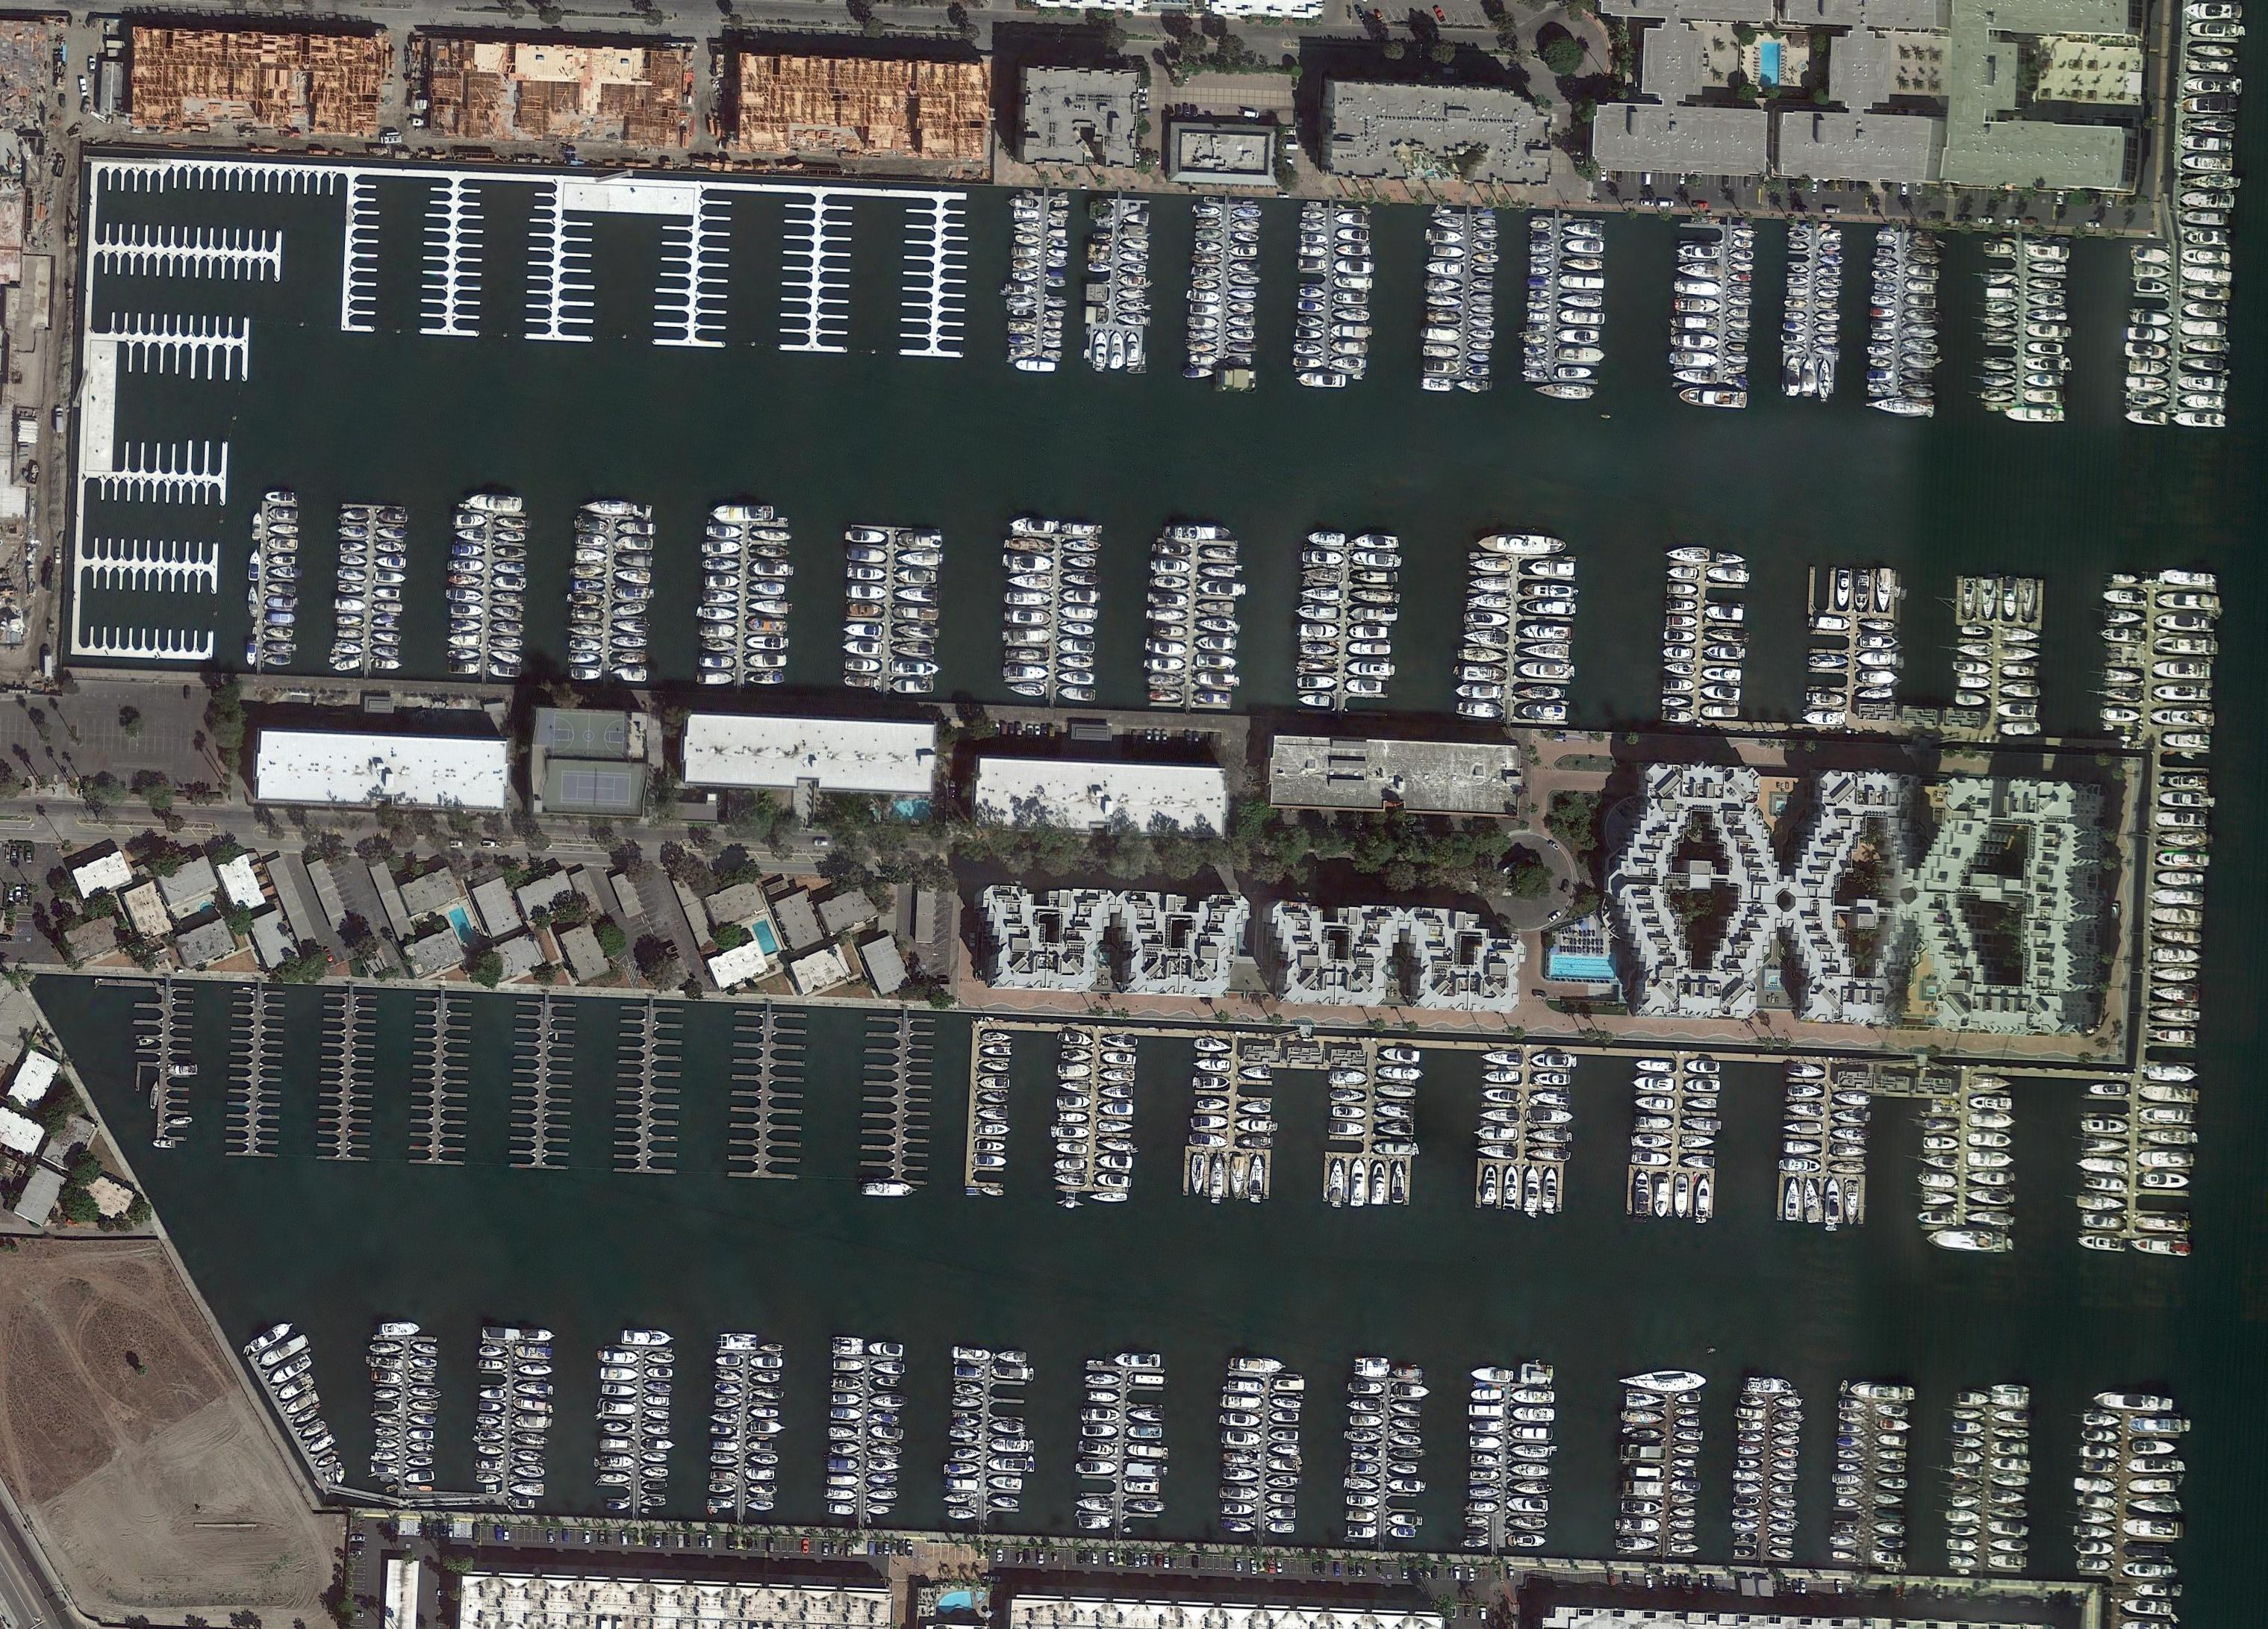harbor: (2135, 745, 2210, 1077), (1460, 552, 1579, 724), (2099, 584, 2216, 745), (2078, 1408, 2180, 1578), (2129, 244, 2231, 415), (2081, 1088, 2194, 1240), (247, 1329, 364, 1475), (1297, 544, 1397, 700), (1003, 530, 1100, 690), (844, 526, 940, 682), (1215, 1370, 1305, 1533), (1617, 1389, 1701, 1559), (1985, 240, 2069, 412), (1777, 1077, 1873, 1226), (1466, 1382, 1554, 1545), (1149, 538, 1239, 694), (1658, 561, 1747, 719), (1948, 1404, 2031, 1573), (1524, 217, 1607, 385), (1183, 1051, 1277, 1200), (1672, 222, 1754, 392), (1476, 1064, 1570, 1212), (1626, 1069, 1719, 1217), (726, 1011, 807, 1180), (1078, 1365, 1167, 1519), (702, 519, 789, 672), (944, 1360, 1028, 1520), (1321, 1066, 1415, 1206), (1806, 566, 1898, 707), (1832, 1395, 1907, 1566), (1295, 206, 1371, 377), (570, 513, 652, 671), (861, 1017, 935, 1187), (825, 1354, 903, 1516), (1920, 1096, 2012, 1233), (595, 1344, 673, 1506), (1345, 1376, 1423, 1535), (612, 1006, 685, 1176), (1868, 229, 1941, 399), (1950, 578, 2044, 710), (1424, 214, 1498, 381), (449, 509, 527, 666), (1054, 1045, 1137, 1193), (708, 1348, 782, 1514), (473, 1338, 551, 1495), (505, 1001, 576, 1171), (776, 204, 856, 353), (1190, 202, 1261, 370), (1080, 200, 1151, 364), (897, 208, 973, 359), (334, 503, 406, 661), (408, 996, 474, 1166), (1732, 1392, 1798, 1561), (123, 988, 196, 1141), (96, 223, 283, 281), (1005, 195, 1070, 363), (1780, 226, 1845, 393), (317, 992, 379, 1162), (652, 217, 732, 348), (223, 989, 286, 1157), (367, 1335, 438, 1482), (420, 188, 486, 337), (524, 218, 600, 343), (105, 158, 338, 196), (128, 314, 250, 382), (113, 437, 230, 506), (82, 538, 220, 594), (965, 1030, 1011, 1189), (255, 501, 299, 661), (341, 179, 383, 334), (80, 626, 215, 661)
ship: (1618, 1368, 1708, 1392), (1477, 535, 1569, 555), (2092, 1390, 2173, 1413), (1926, 1230, 2007, 1253), (258, 1333, 309, 1368), (247, 1318, 296, 1354), (1679, 387, 1748, 409), (1866, 397, 1935, 420), (270, 1354, 313, 1386), (2153, 636, 2220, 655), (2150, 708, 2216, 727), (1850, 1381, 1916, 1400), (2155, 612, 2215, 632), (2156, 593, 2221, 611), (2152, 660, 2211, 680), (278, 1371, 315, 1403), (2139, 1085, 2200, 1103), (465, 493, 523, 512), (2137, 1106, 2197, 1125), (1215, 368, 1258, 394), (1163, 524, 1233, 540), (2122, 1519, 2180, 1538), (712, 504, 774, 521), (1534, 384, 1593, 402), (2131, 1239, 2192, 1256), (2179, 97, 2237, 114), (2151, 907, 2204, 926), (2154, 685, 2211, 702), (284, 1389, 320, 1416), (2184, 4, 2243, 20), (1990, 1383, 2031, 1407), (1228, 1357, 1286, 1374), (2181, 134, 2234, 152), (2148, 1065, 2201, 1083), (2183, 78, 2237, 95), (2185, 173, 2237, 191), (2005, 407, 2063, 423), (2173, 411, 2226, 429), (2163, 570, 2216, 588), (2137, 1151, 2195, 1167), (2158, 851, 2210, 868), (581, 499, 633, 516), (1521, 600, 1576, 617), (2181, 192, 2232, 209), (1518, 662, 1570, 679), (2123, 1542, 2166, 1562), (2134, 1215, 2187, 1232), (2078, 1156, 2128, 1174), (2076, 1195, 2126, 1212), (1669, 351, 1721, 367), (2121, 1599, 2173, 1616), (621, 1330, 676, 1345), (2181, 155, 2233, 171), (2152, 889, 2203, 906), (891, 660, 941, 677), (1299, 371, 1346, 389), (2143, 1172, 2190, 1190), (1457, 702, 1505, 719), (2188, 22, 2241, 37), (2182, 284, 2232, 301), (894, 586, 942, 603), (1621, 1443, 1666, 1461), (1623, 1462, 1663, 1482), (2178, 375, 2225, 392), (2128, 1418, 2184, 1433), (1519, 1362, 1555, 1384), (1557, 346, 1606, 363), (2078, 1236, 2126, 1252), (1743, 1377, 1792, 1394), (2135, 1582, 2184, 1598), (2080, 1137, 2128, 1153), (2182, 267, 2233, 282), (2152, 929, 2202, 944), (2155, 812, 2205, 827), (1010, 517, 1056, 535), (862, 1183, 918, 1197), (2138, 1130, 2193, 1144), (2180, 320, 2227, 336), (892, 605, 941, 620), (1515, 685, 1562, 701), (1522, 625, 1571, 641), (2123, 1563, 2172, 1578), (2124, 343, 2169, 360), (1010, 555, 1055, 572), (1355, 1356, 1389, 1378), (1124, 1460, 1168, 1477), (2182, 249, 2231, 265), (2190, 117, 2236, 134), (1519, 644, 1570, 658), (2101, 627, 2145, 644), (1009, 608, 1051, 626), (2154, 986, 2199, 1003), (2159, 792, 2209, 807), (2184, 302, 2227, 319), (1559, 274, 1606, 290), (2161, 831, 2208, 847), (1353, 552, 1400, 567), (2081, 1119, 2128, 1135), (2102, 588, 2146, 605), (1970, 1074, 2013, 1091), (2155, 948, 2201, 964), (1969, 1113, 2016, 1129), (1676, 261, 1720, 278), (1677, 280, 1722, 296), (1008, 628, 1052, 644), (1522, 704, 1566, 720), (2072, 1477, 2116, 1494), (1623, 1480, 1665, 1498), (897, 532, 943, 548), (1456, 684, 1501, 700), (1969, 1152, 2014, 1168), (2163, 733, 2211, 748), (1114, 1353, 1162, 1368), (1009, 573, 1052, 590), (1209, 1154, 1226, 1197), (1969, 1132, 2012, 1148), (1653, 1176, 1669, 1219), (895, 623, 940, 639), (1876, 568, 1892, 613), (2127, 1459, 2179, 1472), (1700, 685, 1740, 702), (1560, 310, 1606, 325), (2152, 967, 2196, 982), (1676, 316, 1720, 331), (1707, 567, 1751, 582), (1966, 1189, 2010, 1205), (1804, 1179, 1820, 1223), (1350, 608, 1399, 622), (846, 547, 888, 564), (1329, 1159, 1345, 1201), (2084, 1176, 2126, 1192), (1633, 1075, 1674, 1091), (1524, 584, 1574, 597), (2025, 244, 2070, 259), (1353, 534, 1399, 549), (1530, 561, 1575, 576), (2128, 327, 2171, 343), (1675, 334, 1719, 349), (1674, 369, 1717, 384), (1005, 591, 1053, 605), (1302, 549, 1343, 566), (1200, 580, 1242, 597), (1524, 1166, 1539, 1211), (2183, 211, 2225, 226), (2125, 410, 2168, 426), (2157, 871, 2204, 885), (891, 642, 934, 658), (1464, 666, 1507, 682), (1348, 661, 1391, 677), (1513, 1389, 1556, 1404), (1512, 1425, 1554, 1441), (1350, 1160, 1365, 1207), (1532, 1109, 1574, 1125), (1633, 1173, 1649, 1215), (379, 1321, 422, 1337), (2101, 707, 2141, 723), (1471, 1367, 1511, 1383), (366, 1460, 399, 1480), (2127, 1479, 2176, 1492), (2027, 323, 2071, 338), (1677, 244, 1722, 259), (1009, 538, 1053, 552), (1802, 711, 1846, 726), (1249, 1156, 1264, 1200), (1230, 1155, 1245, 1199), (2187, 59, 2233, 73), (1557, 328, 1599, 344), (897, 551, 939, 567), (1469, 593, 1511, 608), (1297, 604, 1337, 620), (1677, 298, 1720, 313), (1464, 648, 1507, 663), (1966, 1211, 2010, 1226), (1504, 1166, 1518, 1209), (2130, 1498, 2175, 1513), (2131, 1440, 2177, 1454), (1825, 1179, 1839, 1224), (847, 585, 888, 600), (1962, 578, 1978, 619), (1997, 703, 2038, 718), (1300, 567, 1342, 582), (1297, 675, 1339, 691), (1222, 1394, 1263, 1410), (717, 1333, 758, 1348), (1481, 1050, 1522, 1066), (2152, 1007, 2197, 1021), (2126, 376, 2169, 391), (1998, 683, 2041, 698), (1465, 612, 1510, 626), (1092, 331, 1108, 371), (842, 640, 882, 655), (1705, 645, 1745, 661), (2082, 1215, 2122, 1230), (1532, 1053, 1572, 1068), (987, 1457, 1027, 1472), (952, 1347, 992, 1362), (1308, 530, 1346, 546), (2180, 357, 2224, 371), (1527, 1147, 1571, 1162), (1194, 672, 1236, 687), (1620, 1519, 1662, 1533), (1507, 1498, 1548, 1513), (1477, 1126, 1518, 1141), (1809, 653, 1848, 669), (1009, 665, 1048, 681), (1381, 1047, 1421, 1063), (1634, 1133, 1674, 1149), (300, 1419, 328, 1442), (2022, 579, 2037, 622), (1667, 547, 1710, 561), (1512, 1407, 1556, 1421), (1845, 1182, 1859, 1225), (1560, 293, 1601, 308), (847, 567, 888, 582), (1465, 629, 1506, 644), (1622, 1500, 1663, 1515), (2075, 1541, 2116, 1556), (1476, 1144, 1517, 1159), (1542, 1168, 1557, 1209), (832, 1337, 865, 1356), (1674, 1174, 1688, 1220), (2001, 647, 2040, 662), (1529, 1127, 1568, 1143), (1967, 1171, 2010, 1185), (1969, 1096, 2012, 1110), (2182, 394, 2222, 409), (2131, 248, 2171, 263), (1197, 655, 1237, 670), (1619, 1537, 1659, 1552), (1781, 1158, 1821, 1173), (308, 1433, 336, 1455), (1331, 323, 1369, 339), (2155, 1029, 2196, 1043), (2024, 357, 2066, 371), (892, 679, 934, 694), (1856, 570, 1870, 611), (1708, 629, 1750, 643), (1470, 558, 1512, 572), (1378, 1066, 1420, 1080), (2187, 231, 2227, 246), (2129, 361, 2169, 376), (1981, 580, 1996, 620), (1860, 635, 1899, 650), (2103, 688, 2143, 703), (1626, 1393, 1666, 1408), (1375, 1103, 1415, 1118), (1695, 1178, 1710, 1218), (990, 1438, 1029, 1453), (1424, 358, 1460, 375), (1424, 326, 1461, 342), (611, 667, 648, 682), (847, 602, 885, 618), (614, 568, 652, 584), (1706, 605, 1743, 621), (2107, 609, 2145, 625), (1224, 1430, 1261, 1446), (1563, 222, 1604, 237), (1988, 1521, 2029, 1535), (2133, 264, 2172, 279), (1702, 667, 1741, 682), (1147, 673, 1186, 688), (1636, 1059, 1674, 1074), (2188, 45, 2234, 57), (1011, 682, 1046, 698), (843, 623, 883, 637), (897, 570, 938, 584), (1297, 658, 1338, 673), (1191, 1155, 1205, 1195), (1328, 1071, 1368, 1085), (1377, 1084, 1417, 1098), (1479, 1109, 1519, 1123), (1786, 1178, 1799, 1221), (702, 557, 740, 572), (1813, 616, 1851, 631), (1236, 1118, 1274, 1133), (1194, 1038, 1232, 1053), (1833, 1091, 1871, 1106), (1482, 1167, 1497, 1205), (1636, 1096, 1674, 1111), (1632, 1151, 1670, 1166), (1015, 359, 1056, 373), (1469, 576, 1511, 590), (1349, 642, 1391, 655), (1627, 1427, 1663, 1442), (1371, 1162, 1385, 1204), (1563, 258, 1603, 272), (1786, 357, 1800, 396), (845, 530, 885, 544), (1510, 1444, 1549, 1458), (1992, 1457, 2031, 1471), (2081, 1413, 2121, 1427), (600, 1367, 640, 1381), (1330, 356, 1367, 371), (1150, 608, 1187, 623), (1329, 1121, 1366, 1136), (2024, 389, 2065, 402), (748, 600, 789, 614), (1392, 1162, 1406, 1203), (1566, 240, 1604, 254), (1109, 331, 1124, 370), (2187, 338, 2225, 352), (2027, 292, 2066, 306), (749, 654, 788, 668), (752, 562, 791, 576), (1300, 587, 1339, 601), (1625, 1410, 1664, 1424), (1512, 1480, 1551, 1495), (1508, 1534, 1547, 1548), (1916, 1211, 1955, 1225), (846, 658, 881, 673), (1425, 278, 1462, 293), (1336, 259, 1372, 274), (612, 618, 649, 633), (617, 536, 654, 551), (2003, 580, 2018, 617), (2003, 629, 2040, 644), (1059, 670, 1095, 685), (1199, 617, 1236, 632), (1223, 1467, 1259, 1482), (1075, 1497, 1112, 1512), (1081, 1460, 1118, 1475), (1191, 1133, 1228, 1148), (1921, 1174, 1957, 1189), (1353, 572, 1398, 584), (2001, 722, 2041, 735), (1006, 648, 1046, 661), (1990, 1539, 2030, 1552), (700, 623, 738, 638), (1101, 1034, 1139, 1048), (1787, 1064, 1825, 1078), (1635, 1116, 1673, 1130), (1127, 1444, 1165, 1458), (1426, 261, 1462, 276), (1990, 1489, 2025, 1504), (1833, 1144, 1869, 1159), (869, 1393, 905, 1408), (1334, 276, 1374, 290), (749, 618, 788, 632), (1300, 624, 1340, 638), (1988, 1555, 2028, 1569), (1682, 1117, 1722, 1130), (2136, 313, 2173, 327), (1061, 523, 1098, 537), (1196, 636, 1233, 650), (1829, 1161, 1866, 1175), (1784, 1121, 1822, 1135), (1062, 687, 1095, 703), (1350, 591, 1395, 602), (1152, 641, 1187, 656), (600, 1436, 635, 1451), (1194, 691, 1233, 705), (1196, 600, 1235, 614), (1350, 626, 1389, 639), (1220, 1487, 1259, 1501), (1508, 1516, 1547, 1530), (2076, 1525, 2115, 1539), (702, 607, 738, 621), (702, 590, 739, 604), (618, 522, 655, 536), (1860, 670, 1896, 685), (1191, 1115, 1228, 1129), (1831, 1127, 1868, 1141), (1923, 1118, 1960, 1132), (867, 1342, 904, 1357), (1155, 592, 1189, 607), (1533, 1090, 1568, 1105), (1129, 1407, 1163, 1422), (1333, 308, 1371, 322), (614, 587, 654, 599), (1300, 643, 1339, 656), (1223, 1413, 1261, 1427), (1511, 1463, 1549, 1477), (1990, 1442, 2028, 1455), (1483, 1089, 1521, 1103), (991, 1366, 1029, 1380), (1347, 679, 1383, 694), (1395, 1385, 1430, 1399), (2084, 1445, 2119, 1460), (512, 1397, 548, 1411), (1802, 358, 1815, 397), (753, 529, 792, 541), (1062, 540, 1102, 552), (1990, 1507, 2029, 1519), (1372, 1142, 1412, 1155), (1423, 344, 1460, 358), (1332, 340, 1369, 354), (1701, 705, 1739, 718), (1194, 1059, 1231, 1072), (1783, 1141, 1821, 1155), (515, 1346, 552, 1359), (2105, 670, 2140, 684), (2081, 1495, 2116, 1509), (976, 1123, 1012, 1137), (1685, 1059, 1720, 1074), (1127, 1425, 1162, 1439), (600, 1455, 635, 1469), (2028, 309, 2066, 322), (293, 1408, 319, 1427), (1426, 294, 1462, 308), (844, 676, 880, 689), (2083, 1461, 2119, 1474), (1685, 1079, 1722, 1092), (702, 655, 736, 669), (1062, 590, 1096, 604), (449, 588, 483, 602), (1860, 618, 1895, 632), (1813, 693, 1847, 707), (1958, 643, 1993, 657), (1221, 1520, 1255, 1534), (2081, 1510, 2116, 1524), (1099, 1155, 1133, 1169), (1058, 1064, 1092, 1078), (1924, 1136, 1958, 1150), (1535, 1071, 1569, 1086), (1083, 1424, 1118, 1438), (1086, 1408, 1121, 1422), (747, 637, 785, 650), (1837, 570, 1850, 608), (2028, 342, 2063, 355), (2024, 374, 2064, 386), (2132, 393, 2168, 406), (750, 582, 785, 596), (707, 541, 743, 555), (705, 575, 741, 588), (617, 554, 652, 567), (1059, 639, 1094, 652), (1857, 687, 1893, 700), (1156, 560, 1191, 573), (1100, 1068, 1135, 1082), (1099, 1120, 1135, 1133), (1831, 1109, 1867, 1123), (867, 1458, 903, 1471), (1427, 311, 1461, 325), (613, 602, 647, 617), (489, 664, 523, 679), (1859, 652, 1892, 667), (1155, 576, 1188, 590), (1786, 1103, 1819, 1117), (602, 1402, 636, 1416), (611, 635, 648, 648), (1819, 359, 1831, 399), (752, 546, 791, 558), (702, 639, 737, 652), (699, 672, 734, 685), (2001, 664, 2036, 678), (1151, 658, 1186, 671), (1470, 1420, 1505, 1433), (1330, 1089, 1365, 1103), (1925, 1155, 1960, 1168), (871, 1361, 906, 1374), (517, 1363, 552, 1377), (334, 597, 366, 612), (1430, 230, 1463, 244), (1241, 1065, 1274, 1080), (1059, 1095, 1091, 1109), (567, 623, 603, 636), (1955, 662, 1992, 675), (1129, 1501, 1165, 1513), (1993, 1410, 2030, 1422), (1377, 1123, 1414, 1136), (1992, 1474, 2031, 1486), (2136, 281, 2170, 294), (1063, 573, 1097, 586), (1945, 1510, 1979, 1523), (2082, 1430, 2116, 1443), (1789, 1085, 1823, 1098), (870, 1425, 905, 1439), (988, 1476, 1022, 1489), (511, 1483, 545, 1496), (1471, 1403, 1502, 1418), (490, 650, 523, 664), (1079, 1516, 1111, 1530), (749, 673, 785, 685), (1059, 623, 1094, 635), (602, 1384, 638, 1397), (1333, 291, 1367, 305), (270, 566, 303, 579), (1663, 630, 1697, 644), (1952, 1421, 1986, 1434), (1421, 377, 1451, 392), (706, 526, 744, 538), (1059, 655, 1094, 668), (1350, 1382, 1385, 1395), (2076, 1559, 2111, 1572), (1086, 1374, 1121, 1386), (989, 1420, 1024, 1433), (520, 1329, 555, 1342), (604, 1351, 639, 1364), (1338, 228, 1369, 242), (576, 533, 608, 547), (1271, 1376, 1303, 1390), (569, 638, 602, 651), (1061, 606, 1094, 620), (452, 603, 485, 617), (1347, 1495, 1380, 1508), (1949, 1480, 1982, 1494), (1946, 1539, 1979, 1552), (1100, 1086, 1133, 1099), (514, 1415, 547, 1428), (1901, 386, 1936, 399), (1201, 565, 1236, 578), (1223, 1452, 1257, 1465), (1348, 1430, 1383, 1443), (1333, 1106, 1367, 1119), (1056, 1127, 1090, 1139), (751, 1422, 785, 1435), (2169, 776, 2208, 787), (1909, 250, 1940, 264), (372, 1371, 402, 1385), (1906, 264, 1938, 278), (449, 573, 481, 587), (1959, 676, 1991, 690), (1666, 567, 1698, 580), (1958, 1392, 1990, 1406), (1267, 1459, 1299, 1472), (1471, 1436, 1503, 1449), (1345, 1510, 1377, 1523), (1389, 1479, 1421, 1492), (1925, 1192, 1957, 1206), (1228, 1380, 1264, 1392), (1124, 1481, 1160, 1493), (2090, 1084, 2125, 1096), (2028, 262, 2066, 273), (1734, 1407, 1768, 1420), (1197, 1077, 1230, 1089), (1089, 1192, 1127, 1203), (824, 1488, 858, 1501), (573, 608, 603, 622), (1348, 1525, 1377, 1539), (1189, 302, 1221, 316), (1984, 242, 2015, 255), (376, 570, 407, 584), (376, 555, 408, 569), (451, 618, 482, 632), (1469, 1468, 1501, 1481), (1084, 1442, 1115, 1456), (1981, 390, 2016, 402), (2027, 278, 2062, 290), (1348, 1399, 1383, 1411), (1484, 1071, 1519, 1083), (1154, 626, 1187, 638), (1157, 543, 1190, 556), (1880, 1419, 1913, 1432), (1239, 1136, 1272, 1148), (1061, 1033, 1094, 1046), (1682, 1136, 1715, 1148), (1191, 290, 1220, 304), (334, 641, 364, 655), (333, 658, 361, 673), (576, 549, 607, 562), (455, 543, 485, 557), (1955, 693, 1986, 706), (1954, 1436, 1984, 1449), (1241, 1100, 1271, 1114), (1062, 1049, 1093, 1062), (1683, 1155, 1714, 1168), (514, 1466, 545, 1479), (447, 649, 482, 661), (490, 591, 524, 603), (1949, 1466, 1984, 1477), (1433, 246, 1465, 258), (455, 514, 487, 527), (453, 559, 485, 572), (493, 621, 525, 634), (337, 525, 370, 538), (1197, 1098, 1230, 1111), (975, 1155, 1007, 1168), (1088, 1391, 1121, 1404), (948, 1463, 980, 1475), (831, 1408, 863, 1421), (1336, 213, 1370, 225), (1336, 245, 1369, 257), (579, 520, 608, 533), (493, 576, 527, 588), (1664, 647, 1694, 660), (1203, 547, 1237, 559), (1221, 1504, 1255, 1516), (1954, 1451, 1984, 1464), (370, 1342, 403, 1354), (750, 1357, 783, 1368), (1457, 379, 1489, 392), (574, 594, 605, 606), (268, 538, 299, 550), (448, 662, 479, 675), (1662, 711, 1693, 723), (1663, 679, 1695, 691), (1103, 1052, 1134, 1065), (977, 1107, 1009, 1120), (1097, 1174, 1129, 1187), (1099, 1138, 1130, 1150), (1558, 367, 1593, 379), (1994, 1427, 2029, 1439), (1985, 302, 2018, 314), (1902, 354, 1935, 366), (448, 634, 481, 646), (1265, 1476, 1298, 1488), (517, 1433, 549, 1445), (1350, 1478, 1379, 1492), (710, 1411, 739, 1424), (1129, 1373, 1166, 1383), (1292, 357, 1323, 370), (1188, 316, 1218, 328), (1906, 280, 1937, 293), (1664, 662, 1695, 675), (827, 1458, 858, 1471), (831, 1442, 862, 1455), (640, 1466, 670, 1479), (1127, 333, 1138, 367), (493, 547, 527, 558), (515, 1383, 549, 1394), (1230, 273, 1262, 285), (1985, 316, 2017, 328), (1984, 375, 2016, 387), (1902, 339, 1934, 351), (490, 607, 523, 619), (1874, 1522, 1906, 1534), (1471, 1389, 1503, 1401), (982, 1032, 1014, 1044), (1056, 1142, 1088, 1154), (827, 1474, 859, 1486), (269, 508, 299, 520), (337, 569, 367, 582), (1733, 1469, 1763, 1482), (832, 1377, 862, 1390), (248, 585, 259, 618), (1875, 1405, 1909, 1416), (1006, 295, 1038, 307), (494, 517, 526, 529), (1670, 1480, 1701, 1492), (1470, 1486, 1501, 1498), (509, 1497, 537, 1510), (1294, 343, 1323, 355), (576, 579, 605, 592), (572, 668, 601, 681), (1878, 1433, 1907, 1446), (1392, 1417, 1421, 1430), (955, 1366, 984, 1379), (1350, 1415, 1383, 1427), (1101, 1104, 1134, 1115), (752, 1388, 785, 1399), (1011, 246, 1041, 258), (576, 564, 606, 576), (249, 550, 261, 581), (266, 582, 296, 594), (455, 529, 486, 541), (491, 636, 522, 648), (1716, 552, 1747, 564), (1300, 694, 1330, 706), (1877, 1537, 1907, 1549), (1468, 1501, 1499, 1513), (979, 1077, 1010, 1088), (1055, 1174, 1085, 1186), (834, 1359, 864, 1371), (618, 652, 647, 664), (267, 611, 296, 624), (1350, 1463, 1379, 1475), (747, 1468, 775, 1480), (948, 1509, 976, 1521), (479, 1345, 507, 1358), (1985, 331, 2017, 343), (493, 531, 526, 542), (1270, 1398, 1302, 1409), (1390, 1434, 1422, 1445), (1953, 1409, 1985, 1420), (167, 1063, 199, 1074), (1297, 259, 1327, 271), (376, 527, 406, 539), (1872, 1551, 1902, 1563), (953, 1397, 982, 1409), (516, 1451, 546, 1463), (646, 1352, 676, 1364), (373, 602, 404, 613), (493, 562, 525, 573), (1150, 691, 1182, 702), (1876, 1478, 1910, 1489), (1390, 1403, 1421, 1414), (1058, 1112, 1089, 1124), (867, 1489, 898, 1501), (600, 1472, 632, 1483), (1871, 256, 1898, 269), (375, 541, 402, 553), (148, 1083, 161, 1110), (714, 1383, 741, 1395), (1009, 282, 1038, 294), (1191, 354, 1220, 366), (1228, 315, 1257, 327), (1228, 288, 1257, 300), (1067, 556, 1096, 568), (379, 511, 408, 523), (266, 490, 295, 502), (1668, 584, 1697, 596), (1733, 1482, 1762, 1494), (1267, 1508, 1296, 1520), (1952, 1495, 1981, 1507), (953, 1448, 982, 1460), (942, 1492, 971, 1504), (998, 1351, 1027, 1362), (1982, 361, 2015, 371), (1191, 253, 1222, 264), (1905, 294, 1936, 305), (372, 632, 402, 643), (1666, 616, 1697, 627), (1054, 1159, 1085, 1170), (1686, 1097, 1717, 1109), (337, 628, 364, 641), (340, 553, 367, 566), (1299, 246, 1327, 258), (375, 659, 403, 671), (1875, 1493, 1903, 1505), (1949, 1556, 1978, 1568), (710, 1454, 738, 1466), (832, 1394, 861, 1406), (476, 1460, 504, 1471), (1900, 370, 1932, 380), (1116, 314, 1146, 325), (1185, 368, 1215, 379), (270, 523, 299, 535), (265, 626, 295, 638), (1269, 1412, 1299, 1423), (1950, 1526, 1980, 1537), (867, 1474, 897, 1485), (646, 1439, 676, 1451), (1990, 273, 2018, 285), (372, 646, 399, 658), (267, 596, 295, 608), (264, 655, 292, 667), (1471, 1454, 1498, 1466), (977, 1141, 1005, 1153), (409, 1413, 437, 1425), (647, 1367, 674, 1379), (1186, 341, 1218, 352), (1120, 251, 1149, 262), (1905, 308, 1934, 320), (252, 512, 263, 541), (1394, 1367, 1423, 1378), (869, 1445, 903, 1455), (948, 1429, 977, 1440), (409, 1400, 438, 1411), (644, 1382, 673, 1393), (1298, 316, 1324, 328), (1872, 270, 1898, 281), (1829, 1535, 1856, 1547), (1732, 1507, 1759, 1519), (715, 1369, 742, 1381), (713, 1441, 740, 1453), (1232, 208, 1262, 218), (1188, 329, 1219, 340), (1393, 1448, 1424, 1459), (1670, 1544, 1701, 1554), (982, 1045, 1013, 1056), (870, 1412, 900, 1423), (1297, 302, 1326, 313), (1121, 238, 1150, 249), (1195, 228, 1224, 240), (1390, 1514, 1418, 1525), (1389, 1463, 1418, 1474), (747, 1501, 775, 1512), (750, 1454, 779, 1465), (407, 1471, 435, 1483), (1300, 287, 1326, 299), (1015, 233, 1041, 245), (373, 1357, 403, 1367), (956, 1383, 982, 1395), (1435, 217, 1462, 228), (1472, 252, 1500, 264), (1295, 328, 1323, 340), (1227, 329, 1254, 340), (1839, 1411, 1866, 1422), (1731, 1520, 1759, 1531), (1271, 1443, 1298, 1454), (1268, 1492, 1296, 1504), (1062, 1081, 1089, 1092), (829, 1427, 856, 1438), (991, 1497, 1019, 1508), (753, 1373, 780, 1384), (478, 1445, 505, 1457), (1008, 334, 1037, 345), (1013, 270, 1038, 282), (714, 1397, 740, 1409), (1195, 267, 1222, 278), (338, 583, 365, 594), (340, 541, 367, 552), (1015, 222, 1041, 233), (1839, 1399, 1866, 1410), (711, 1471, 738, 1482), (708, 1498, 735, 1510), (373, 1389, 400, 1400), (643, 1395, 670, 1407), (476, 1474, 502, 1485), (1228, 343, 1259, 352), (1831, 1474, 1862, 1484), (1877, 1451, 1907, 1460), (1768, 1521, 1796, 1532), (1271, 1430, 1299, 1441), (1010, 321, 1036, 332), (1233, 231, 1259, 242), (1197, 241, 1223, 252), (1228, 302, 1254, 314), (1870, 307, 1896, 318), (1871, 295, 1897, 306), (572, 653, 598, 664), (1836, 1436, 1863, 1448), (1672, 1493, 1698, 1504), (982, 1092, 1009, 1103), (829, 1504, 855, 1516), (411, 1357, 437, 1368), (1118, 288, 1145, 299), (1119, 264, 1147, 274), (1230, 246, 1257, 257), (1014, 209, 1041, 219), (1769, 1509, 1796, 1519), (1737, 1421, 1765, 1431), (408, 1442, 435, 1453), (642, 1424, 670, 1435), (317, 1454, 337, 1468), (372, 614, 396, 626), (1013, 258, 1038, 270), (1192, 279, 1218, 290), (1868, 345, 1893, 356), (337, 615, 363, 626), (1671, 600, 1696, 611), (1009, 198, 1035, 209), (1738, 1445, 1763, 1456), (1269, 1523, 1295, 1534), (603, 1422, 629, 1433), (246, 641, 258, 667), (748, 1484, 777, 1494), (1469, 328, 1496, 339), (1118, 301, 1145, 311), (342, 509, 369, 520), (267, 642, 293, 652), (1663, 697, 1689, 707), (1775, 1410, 1801, 1420), (1463, 1538, 1490, 1548), (478, 1360, 505, 1371), (408, 1430, 435, 1440), (170, 1115, 193, 1127), (1527, 276, 1552, 287), (1876, 1463, 1904, 1473), (750, 1408, 779, 1418), (1302, 234, 1328, 244), (1299, 221, 1325, 231), (2113, 574, 2139, 585), (1772, 1471, 1798, 1482), (1733, 1495, 1760, 1506), (1671, 1531, 1697, 1542), (983, 1061, 1009, 1071), (641, 1452, 667, 1463), (1119, 275, 1147, 285), (1233, 219, 1260, 229), (1773, 1435, 1801, 1445), (1524, 334, 1548, 345), (154, 1137, 176, 1149), (1473, 240, 1498, 251), (1196, 205, 1221, 216), (1868, 370, 1893, 381), (1871, 320, 1896, 331), (1770, 1548, 1795, 1559), (1839, 1423, 1864, 1433), (1391, 1527, 1416, 1537), (715, 1355, 741, 1365), (375, 1414, 400, 1424), (641, 1497, 667, 1507), (644, 1410, 670, 1420), (1775, 1398, 1802, 1407), (1773, 1421, 1800, 1431), (1772, 1448, 1799, 1457), (406, 1457, 433, 1466), (1783, 322, 1807, 332), (414, 1344, 438, 1354), (374, 588, 400, 598), (1740, 1396, 1766, 1406), (709, 1483, 735, 1493), (410, 1387, 436, 1397), (1469, 340, 1493, 351), (1523, 346, 1547, 356), (1521, 369, 1545, 379), (1125, 214, 1149, 224), (376, 1427, 399, 1437), (1674, 1445, 1701, 1454), (1470, 305, 1495, 314), (1227, 357, 1252, 367), (1728, 296, 1753, 306), (1772, 1460, 1798, 1469), (411, 1371, 436, 1380), (479, 1432, 504, 1442), (1875, 282, 1896, 293), (1527, 300, 1550, 311), (1089, 263, 1112, 273), (1839, 1449, 1862, 1460), (1814, 346, 1841, 355), (1730, 250, 1754, 260), (1010, 347, 1035, 357), (1819, 255, 1843, 264), (1867, 384, 1892, 393), (1961, 626, 1986, 636), (1676, 1394, 1701, 1404), (1675, 1431, 1700, 1441), (1739, 1433, 1764, 1443), (479, 1390, 504, 1400), (643, 1481, 667, 1491), (1477, 228, 1499, 239), (1525, 358, 1548, 368), (1772, 1497, 1798, 1506), (1230, 261, 1254, 271), (1725, 354, 1748, 364), (1784, 299, 1808, 308), (955, 1418, 979, 1427), (376, 1439, 399, 1449), (270, 555, 296, 564), (1669, 1519, 1695, 1527), (1739, 1459, 1760, 1469), (1469, 317, 1492, 327), (1471, 279, 1494, 289), (1783, 333, 1807, 343), (1783, 311, 1807, 320), (375, 1451, 398, 1461), (1301, 211, 1326, 219), (1818, 278, 1842, 287), (748, 1442, 773, 1451), (1783, 344, 1805, 354), (1872, 332, 1895, 342), (1673, 1507, 1695, 1517), (867, 1505, 890, 1515), (711, 1426, 734, 1436), (374, 1402, 396, 1412), (1728, 285, 1752, 294), (1730, 263, 1754, 272), (1530, 243, 1554, 252), (1817, 312, 1841, 321), (1676, 1407, 1700, 1416), (1673, 1469, 1697, 1478), (605, 1502, 629, 1511), (1530, 289, 1551, 299), (1527, 323, 1549, 333), (1870, 358, 1892, 367), (1044, 299, 1068, 308), (1351, 1451, 1374, 1460), (1465, 1516, 1488, 1525), (479, 1403, 502, 1412), (1530, 220, 1551, 230), (1822, 231, 1842, 241), (1471, 294, 1493, 303), (1197, 217, 1220, 226), (1728, 320, 1750, 328), (1771, 1536, 1793, 1545), (982, 1187, 1004, 1196), (335, 1463, 344, 1485), (477, 1417, 499, 1426), (1817, 267, 1841, 275), (1836, 1487, 1860, 1495), (1468, 354, 1490, 363), (1468, 367, 1490, 376), (1733, 229, 1755, 238), (1728, 331, 1749, 340), (1788, 231, 1810, 240), (1770, 1485, 1792, 1494), (1838, 1463, 1860, 1472), (876, 1377, 898, 1386), (1816, 300, 1839, 308), (760, 1344, 783, 1352), (1050, 208, 1069, 218), (1838, 1498, 1857, 1507), (1474, 266, 1495, 275), (1816, 324, 1837, 333), (1788, 241, 1809, 250), (1833, 1551, 1854, 1560), (1730, 273, 1752, 281), (1677, 1418, 1700, 1427), (1673, 1459, 1695, 1467), (1127, 367, 1149, 375), (1531, 266, 1551, 275), (1530, 312, 1551, 321), (1876, 234, 1896, 243), (1530, 255, 1552, 264), (1478, 218, 1496, 228), (1733, 239, 1753, 248), (1043, 349, 1062, 358), (1043, 330, 1062, 339), (1729, 308, 1748, 317), (1789, 287, 1808, 296), (1725, 366, 1746, 374), (1788, 277, 1809, 285), (595, 1408, 607, 1422), (1043, 340, 1062, 349), (1046, 309, 1065, 318), (1816, 336, 1839, 343), (1790, 265, 1809, 274), (1047, 259, 1065, 268), (382, 1483, 397, 1495), (137, 1038, 155, 1047), (1092, 231, 1112, 240), (2180, 751, 2196, 761), (1818, 290, 1839, 297), (1050, 239, 1068, 248), (1203, 197, 1220, 206), (1048, 249, 1067, 258), (1044, 320, 1062, 328), (2177, 1459, 2187, 1474), (2111, 903, 2121, 918), (1046, 280, 1066, 287), (1824, 243, 1842, 251), (1728, 343, 1745, 352), (1307, 201, 1324, 210), (1839, 1377, 1848, 1394), (1734, 1549, 1751, 1557), (596, 1395, 605, 1411), (1050, 219, 1065, 228), (1048, 229, 1066, 237), (2005, 1237, 2014, 1250), (1054, 201, 1070, 208), (1001, 555, 1009, 569), (1028, 1439, 1036, 1453), (1082, 1407, 1088, 1424), (1412, 1142, 1421, 1155), (1028, 1455, 1035, 1471), (1957, 1567, 1971, 1575), (1899, 1560, 1908, 1572), (1571, 1056, 1579, 1069), (1131, 1144, 1140, 1155), (1144, 638, 1151, 652), (1074, 1463, 1081, 1476), (1078, 1439, 1084, 1454), (2185, 1418, 2191, 1433), (1029, 1365, 1035, 1382), (2208, 798, 2216, 809), (1083, 348, 1090, 361), (1344, 1477, 1350, 1489), (1824, 1226, 1838, 1232), (1145, 609, 1153, 620), (1003, 538, 1010, 549), (243, 1345, 251, 1356), (1342, 1538, 1356, 1544), (1614, 1519, 1621, 1531), (1419, 1480, 1425, 1494), (1695, 1218, 1707, 1225), (2191, 1130, 2197, 1144), (1209, 1200, 1223, 1206), (1332, 1202, 1344, 1209), (1050, 1127, 1058, 1137), (547, 1402, 553, 1415), (697, 606, 703, 617), (1426, 228, 1431, 243), (1164, 1445, 1169, 1460), (1527, 1209, 1536, 1217), (1146, 315, 1152, 327), (2009, 1215, 2015, 1227), (1343, 1430, 1349, 1442), (1547, 1445, 1559, 1451), (1436, 205, 1443, 215), (1088, 1362, 1102, 1367), (548, 1415, 553, 1429), (1567, 1131, 1573, 1142), (641, 1507, 650, 1515), (594, 1457, 600, 1467), (418, 1485, 432, 1489), (1149, 578, 1155, 588), (548, 1385, 554, 1395), (1124, 1527, 1132, 1534), (700, 543, 707, 552), (567, 593, 573, 602), (1417, 1514, 1421, 1527), (568, 568, 575, 576), (1144, 661, 1150, 670), (1348, 1382, 1353, 1394), (366, 1355, 372, 1364), (1152, 543, 1158, 551), (2010, 1172, 2016, 1181), (1187, 289, 1191, 299), (1220, 1413, 1224, 1424), (1150, 561, 1155, 570), (408, 1486, 419, 1489), (2010, 1195, 2015, 1203), (1149, 593, 1153, 602)
